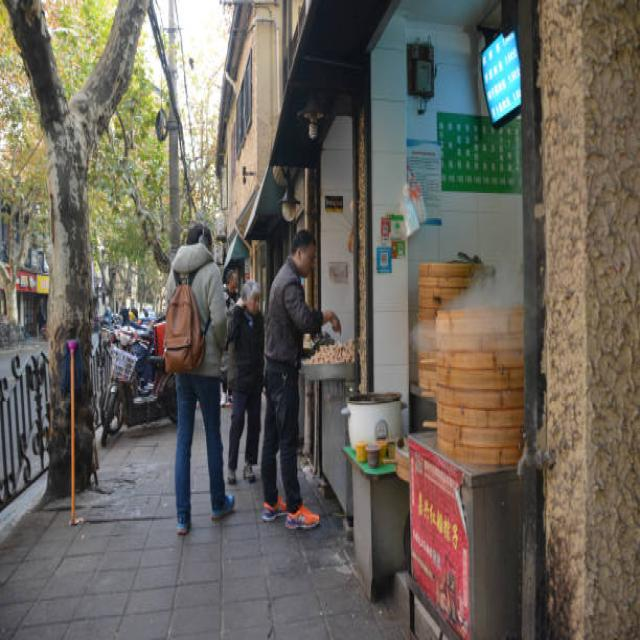Emperan: (336, 104, 565, 640)
